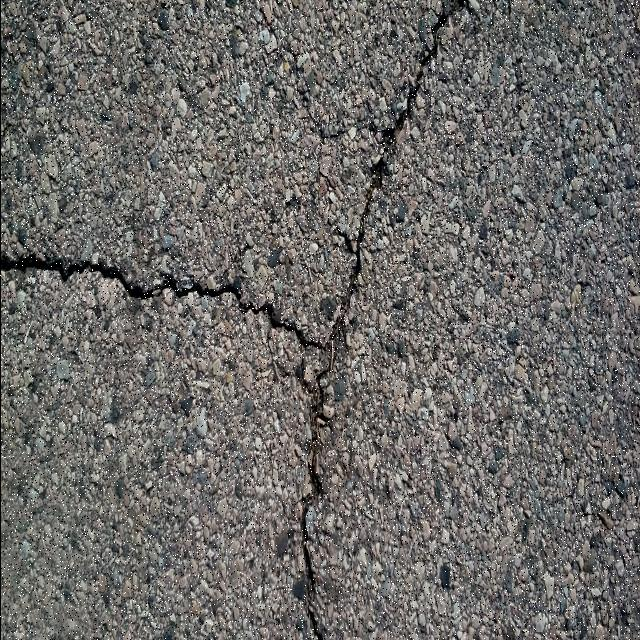Crack: (0, 0, 465, 640)
